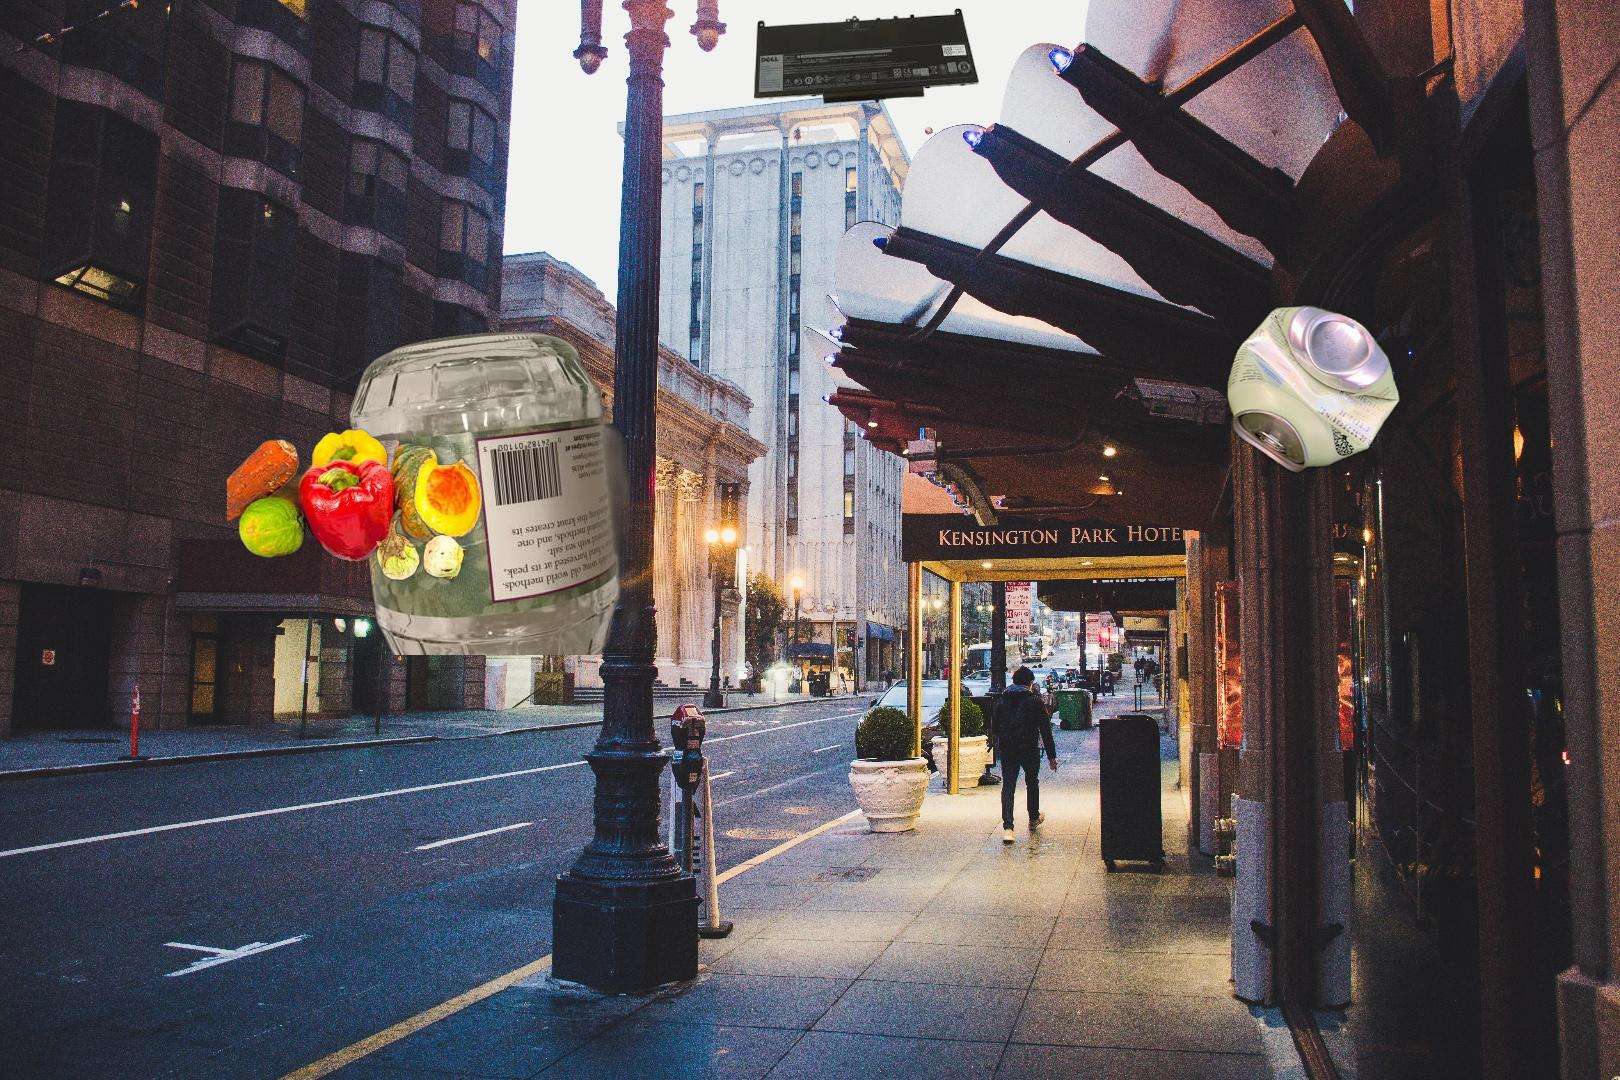battery: (755, 6, 979, 106)
biological: (227, 425, 485, 585)
glass: (345, 327, 653, 655)
metal-cans: (1222, 300, 1405, 479)
trashbox-cardboard: (1554, 1073, 1620, 1080)
